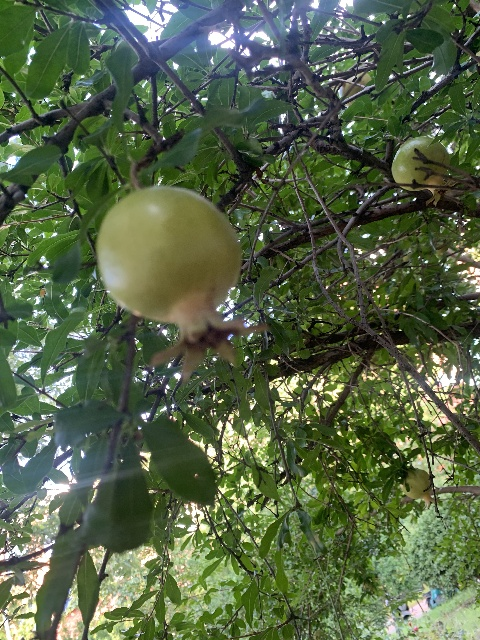mid-growth: (96, 185, 272, 382), (391, 136, 456, 205), (401, 468, 440, 510)
